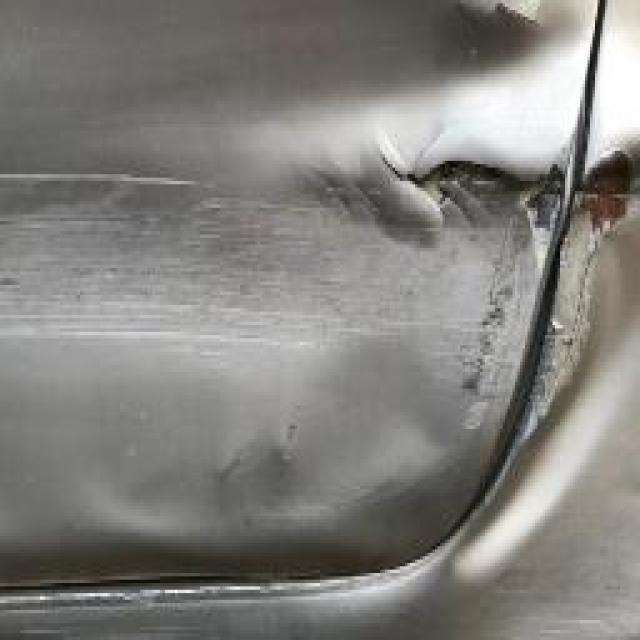Door: (2, 94, 520, 469)
Fender: (545, 147, 640, 415)
